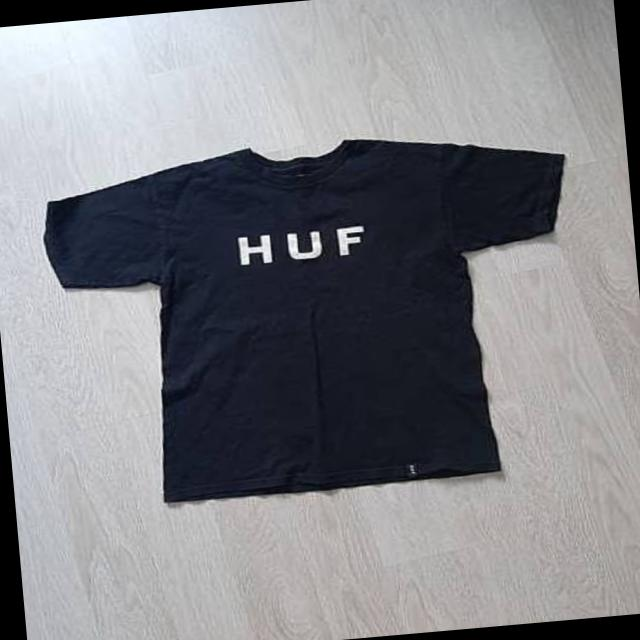T_SHIRT: (17, 111, 616, 536)
